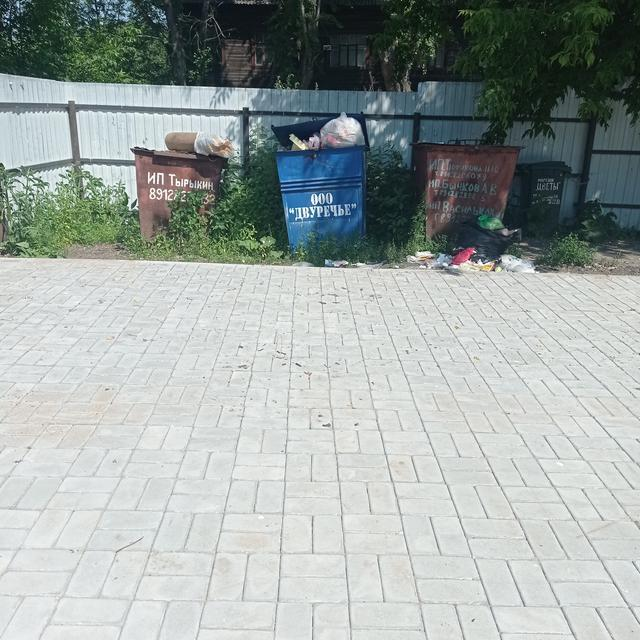Trash_Can_Closed: (515, 159, 574, 236)
Trash_Can_Empty: (409, 140, 525, 246)
Trash_Can_Full: (270, 112, 372, 254), (131, 130, 231, 242)
